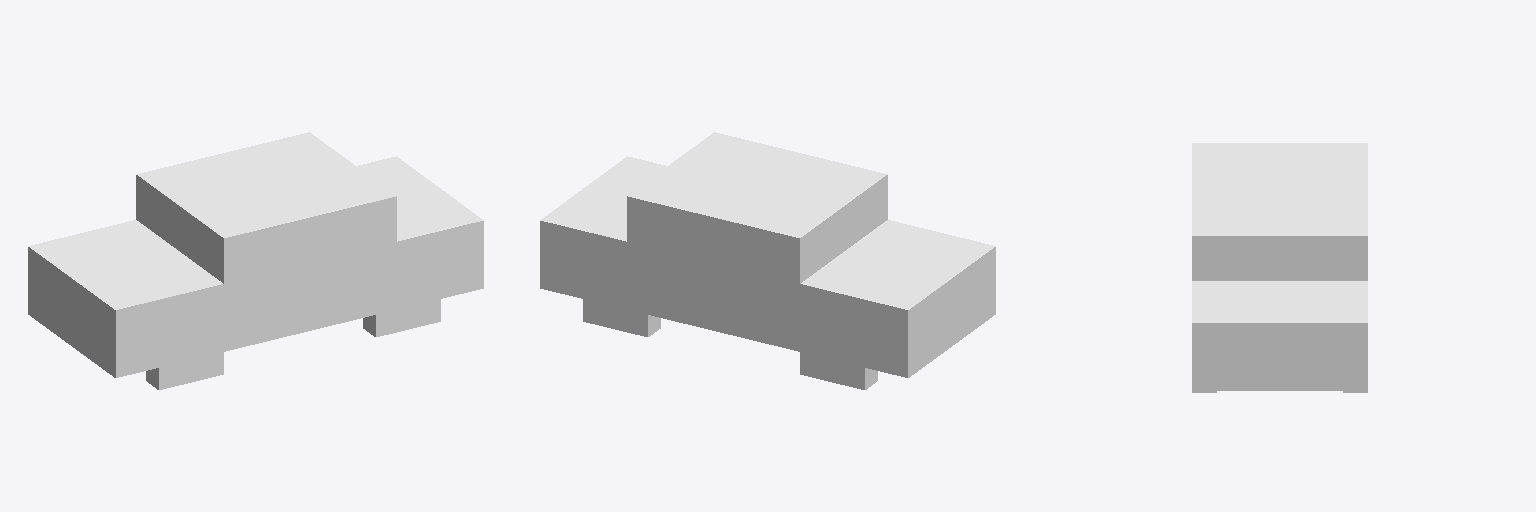
The model's file is cars-5.obj.
3 views of the same model, side by side, from view 1: azimuth 30°, elevation 25°; view 2: azimuth 150°, elevation 25°; view 3: azimuth 270°, elevation 25° (orthographic).
Visible parts, largest first — view 1: object 1; view 2: object 1; view 3: object 1.
Boxes of the visible parts, x1=… form: object 1: x1=28, y1=132, x2=483, y2=389; object 1: x1=540, y1=132, x2=995, y2=389; object 1: x1=1192, y1=143, x2=1367, y2=392.
Size of the model in its own units: 1.7 by 0.6 by 0.7.